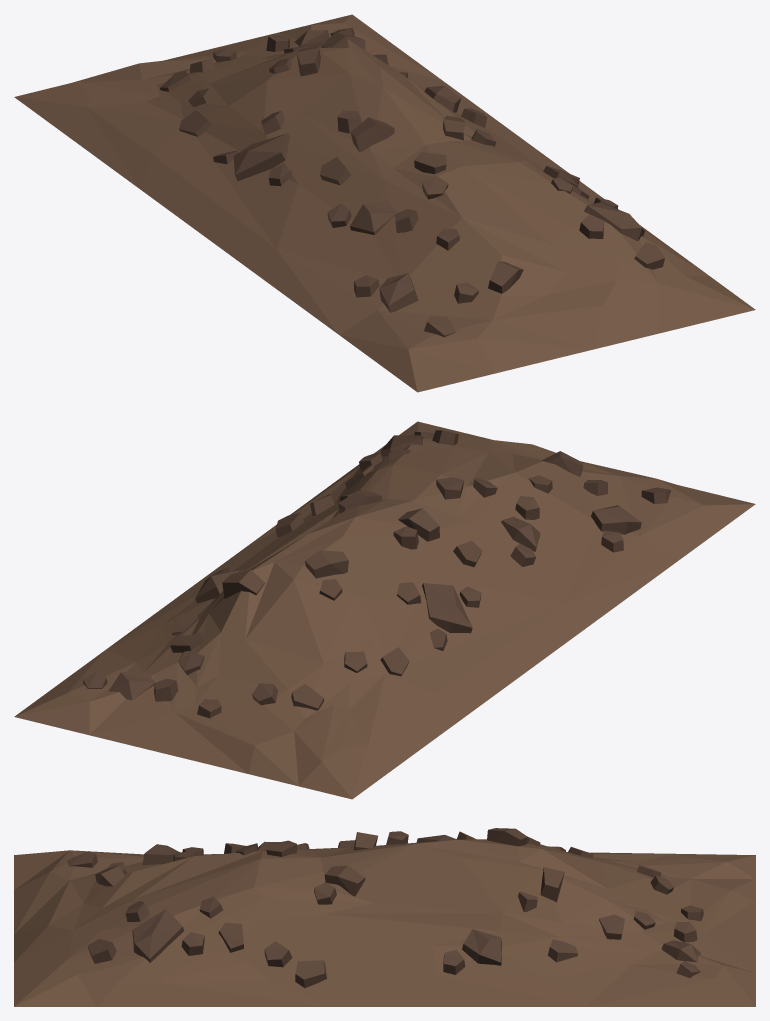
File: SM_Veh_Truck_01_DumpTray_01_Dirt_01.fbx
The picture shows the model from 3 angles, top to bottom: view 1: azimuth 30°, elevation 25°; view 2: azimuth 150°, elevation 25°; view 3: azimuth 270°, elevation 25°; orthographic projection. The views are drawn at different scales.
Parts seen in each view (by area): view 1: SM_Veh_Truck_01_DumpTray_01_Dirt_01; view 2: SM_Veh_Truck_01_DumpTray_01_Dirt_01; view 3: SM_Veh_Truck_01_DumpTray_01_Dirt_01.
Part boxes in pixels (x1=…): SM_Veh_Truck_01_DumpTray_01_Dirt_01: x1=14, y1=14, x2=755, y2=392; SM_Veh_Truck_01_DumpTray_01_Dirt_01: x1=14, y1=421, x2=755, y2=799; SM_Veh_Truck_01_DumpTray_01_Dirt_01: x1=14, y1=828, x2=755, y2=1006.
Bounding box in the file's own units: 298 × 93.19 × 615.
